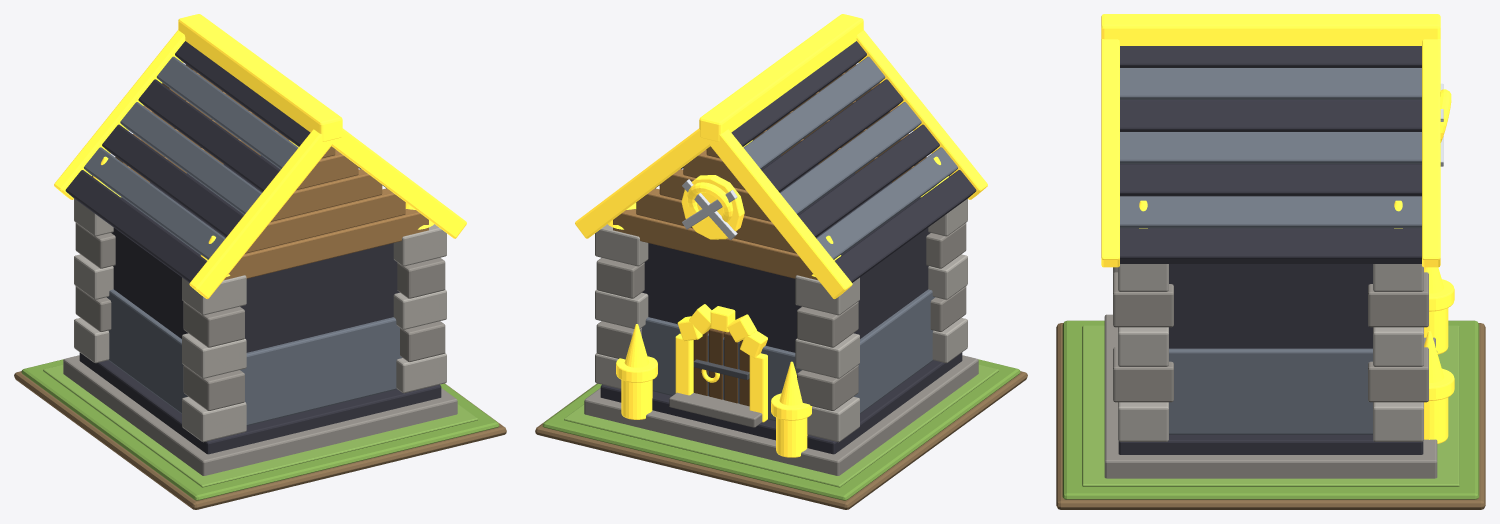
File: hero_hall_lv8.glb
The picture shows the model from 3 angles, left to right: view 1: azimuth 30°, elevation 25°; view 2: azimuth 150°, elevation 25°; view 3: azimuth 270°, elevation 25°; orthographic projection. The views are drawn at different scales.
Parts seen in each view (by area): view 1: HeroStoneWainscot, HeroHallCore, HeroPlinth1, Base_Grass, HeroPlinth2, RidgeBeam, Base_Inner, Base_Dirt, Bargeboard_-1_-1, Gable_-1_0, RoofSlope_-1_4, RoofSlope_-1_6 (+25 smaller); view 2: HeroHallCore, HeroStoneWainscot, HeroPlinth1, Base_Grass, RidgeBeam, Base_Inner, Base_Dirt, Bargeboard_1_-1, Gable_1_0, RoofSlope_-1_4, RoofSlope_-1_6, RoofSlope_-1_2 (+40 smaller); view 3: HeroStoneWainscot, HeroHallCore, Base_Grass, RoofSlope_1_6, RidgeBeam, RoofSlope_1_4, HeroPlinth1, RoofSlope_1_5, RoofSlope_1_1, RoofSlope_1_2, RoofSlope_1_3, Base_Inner (+20 smaller).
Part boxes in pixels (left/top/right/bottom): HeroStoneWainscot: left=107, top=289, right=402, bottom=425; HeroHallCore: left=111, top=155, right=399, bottom=352; HeroPlinth1: left=63, top=355, right=457, bottom=475; Base_Grass: left=21, top=359, right=499, bottom=500; HeroPlinth2: left=79, top=352, right=441, bottom=454; RidgeBeam: left=178, top=14, right=342, bottom=141; Base_Inner: left=43, top=364, right=477, bottom=487; Base_Dirt: left=14, top=371, right=506, bottom=509; Bargeboard_-1_-1: left=189, top=129, right=335, bottom=298; Gable_-1_0: left=224, top=209, right=428, bottom=280; RoofSlope_-1_4: left=102, top=124, right=243, bottom=237; RoofSlope_-1_6: left=65, top=170, right=206, bottom=282; HeroHallCore: left=642, top=155, right=930, bottom=352; HeroStoneWainscot: left=642, top=289, right=934, bottom=421; HeroPlinth1: left=584, top=355, right=978, bottom=475; Base_Grass: left=542, top=359, right=1020, bottom=500; RidgeBeam: left=699, top=14, right=863, bottom=141; Base_Inner: left=564, top=364, right=998, bottom=487; Base_Dirt: left=535, top=371, right=1027, bottom=509; Bargeboard_1_-1: left=710, top=129, right=852, bottom=298; Gable_1_0: left=613, top=209, right=817, bottom=280; RoofSlope_-1_4: left=798, top=124, right=939, bottom=237; RoofSlope_-1_6: left=835, top=170, right=976, bottom=282; RoofSlope_-1_2: left=762, top=79, right=903, bottom=191; HeroStoneWainscot: left=1169, top=348, right=1372, bottom=434; HeroHallCore: left=1169, top=264, right=1372, bottom=348; Base_Grass: left=1062, top=320, right=1479, bottom=499; RoofSlope_1_6: left=1120, top=228, right=1421, bottom=263; RidgeBeam: left=1101, top=14, right=1440, bottom=45; RoofSlope_1_4: left=1120, top=164, right=1421, bottom=196; HeroPlinth1: left=1104, top=314, right=1437, bottom=478; RoofSlope_1_5: left=1120, top=196, right=1421, bottom=228; RoofSlope_1_1: left=1120, top=68, right=1421, bottom=99; RoofSlope_1_2: left=1120, top=100, right=1421, bottom=131; RoofSlope_1_3: left=1120, top=132, right=1421, bottom=163; Base_Inner: left=1082, top=325, right=1459, bottom=486.
Bounding box in the file's own units: 2.76 × 2.85 × 2.76.
